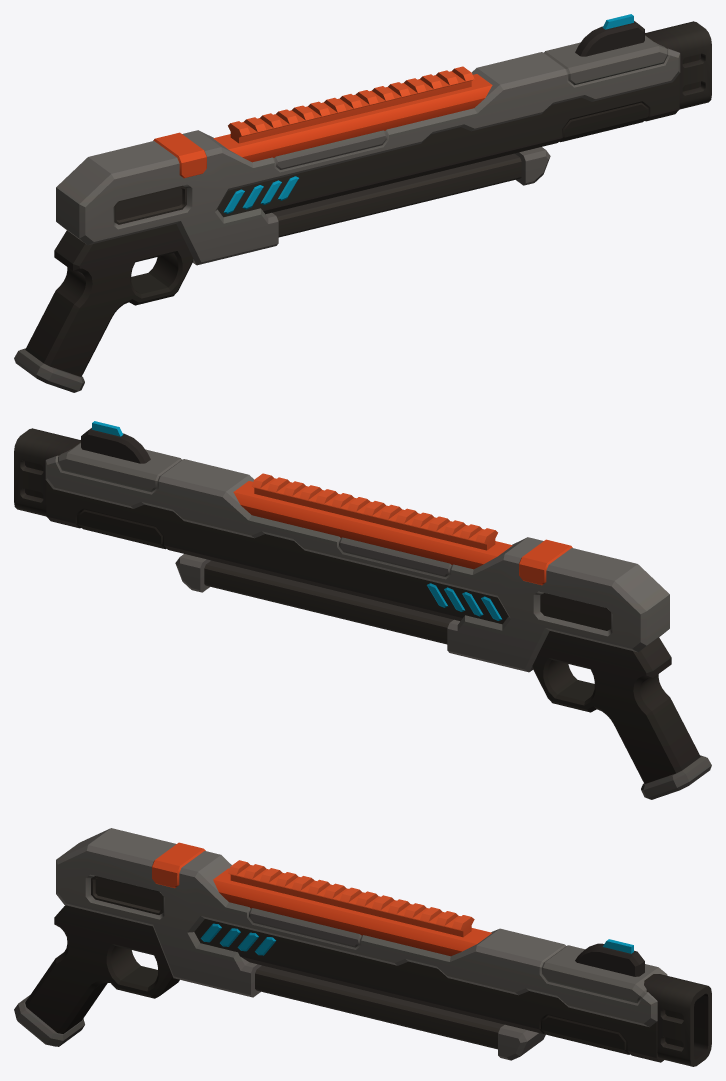
File: Shotgun3_Base.fbx
3 renders of one model, top to bottom at view 1: azimuth 30°, elevation 25°; view 2: azimuth 150°, elevation 25°; view 3: azimuth 330°, elevation 25°, orthographic.
Parts seen in each view (by area): view 1: Shotgun3_Base; view 2: Shotgun3_Base; view 3: Shotgun3_Base.
Part boxes in pixels (x1,y1,x2,y2): Shotgun3_Base: [14, 14, 711, 392]; Shotgun3_Base: [14, 421, 711, 799]; Shotgun3_Base: [14, 828, 711, 1066].
Size of the model in its own units: 72.13 by 23.56 by 5.99.
